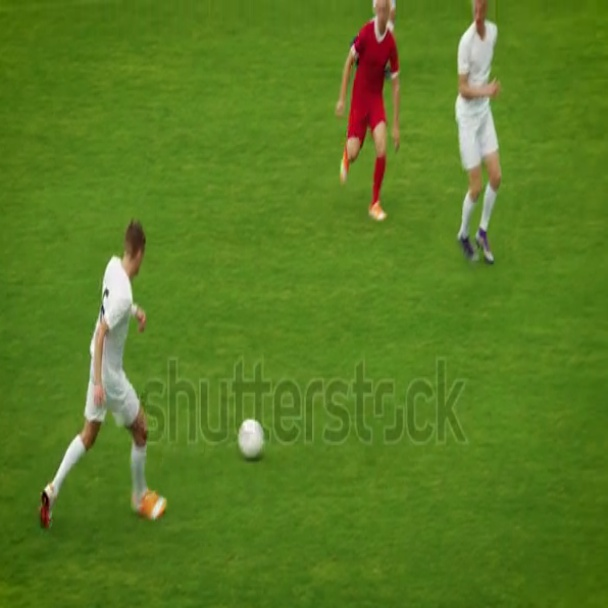ball: (235, 415, 266, 463)
